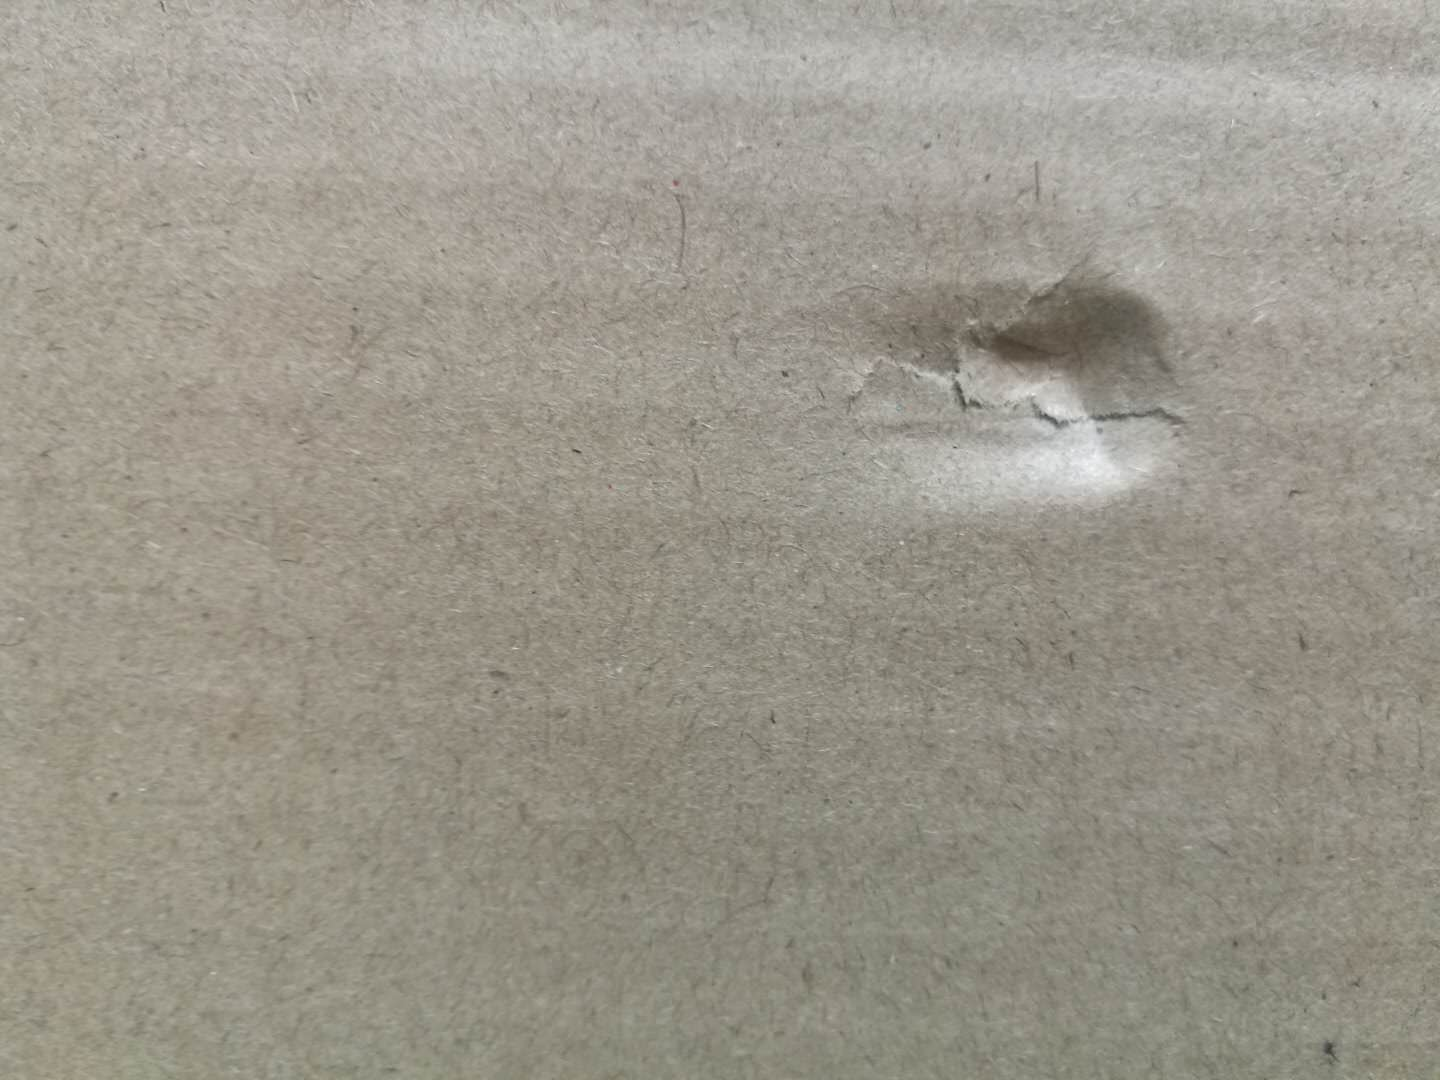defect: (783, 234, 1220, 548)
